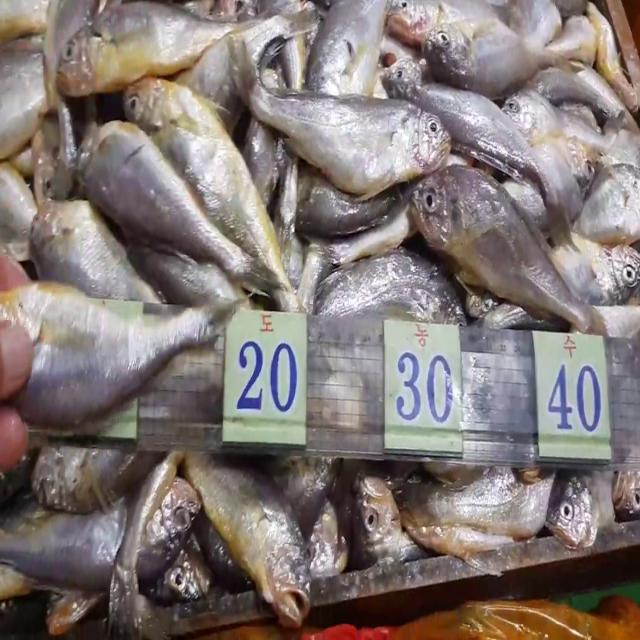Wet: (83, 120, 282, 302), (408, 165, 602, 336), (0, 284, 224, 428), (125, 78, 274, 248), (0, 473, 200, 593), (187, 453, 315, 633), (379, 64, 542, 175), (285, 88, 452, 187), (54, 0, 214, 100), (424, 12, 554, 99)
